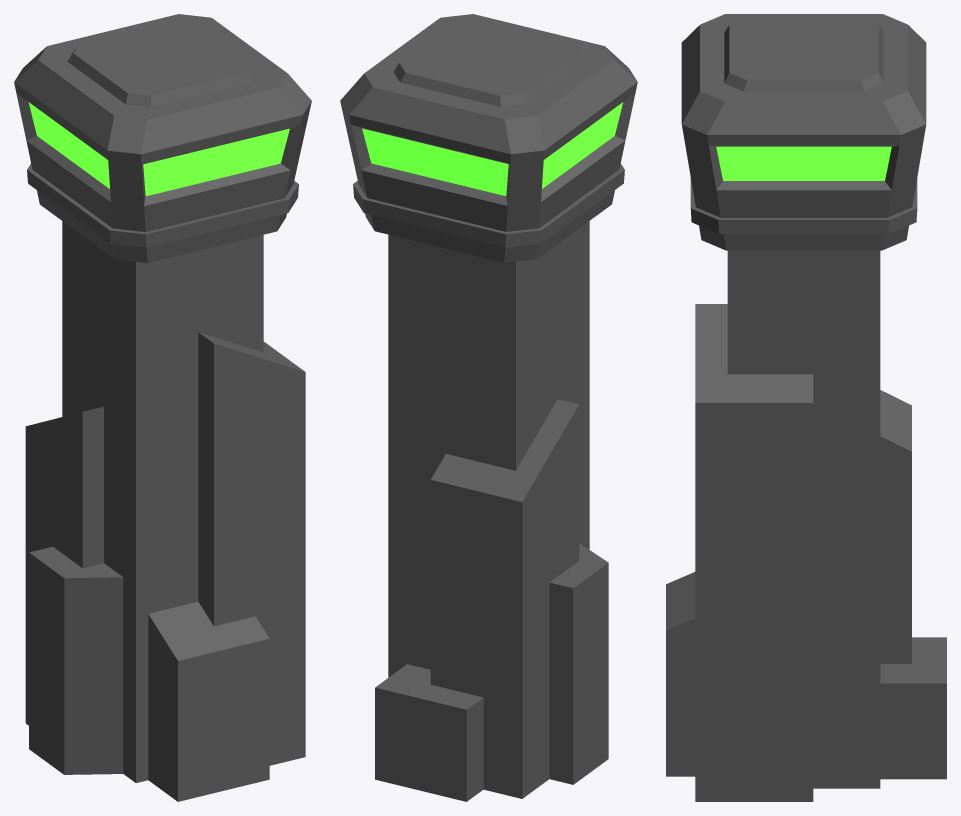
File: towerA.fbx
3 views of the same model, side by side, from view 1: azimuth 30°, elevation 25°; view 2: azimuth 150°, elevation 25°; view 3: azimuth 270°, elevation 25° (orthographic). The views are drawn at different scales.
Visible parts, largest first — view 1: SM_Bld_City_Wall_Tower_01; view 2: SM_Bld_City_Wall_Tower_01; view 3: SM_Bld_City_Wall_Tower_01.
Part boxes in pixels (x1=…): SM_Bld_City_Wall_Tower_01: x1=14, y1=14, x2=311, y2=801; SM_Bld_City_Wall_Tower_01: x1=340, y1=14, x2=637, y2=801; SM_Bld_City_Wall_Tower_01: x1=666, y1=14, x2=946, y2=801.
Bounding box in the file's own units: 417 × 1288 × 463.
